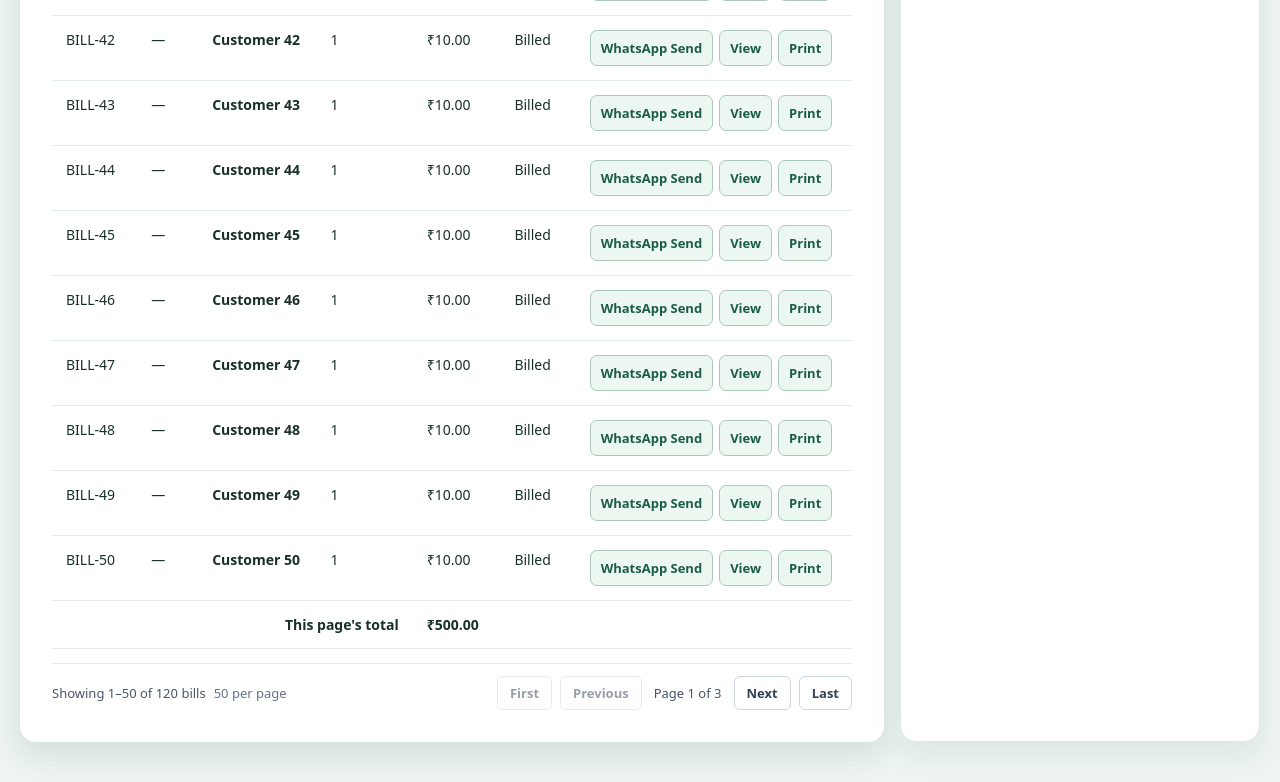
Test: clears the previous pager total after a failed request
(page scrolled)
Click the button "Next" at x=762, y=693, box [734, 676, 791, 710]
(page scrolled)
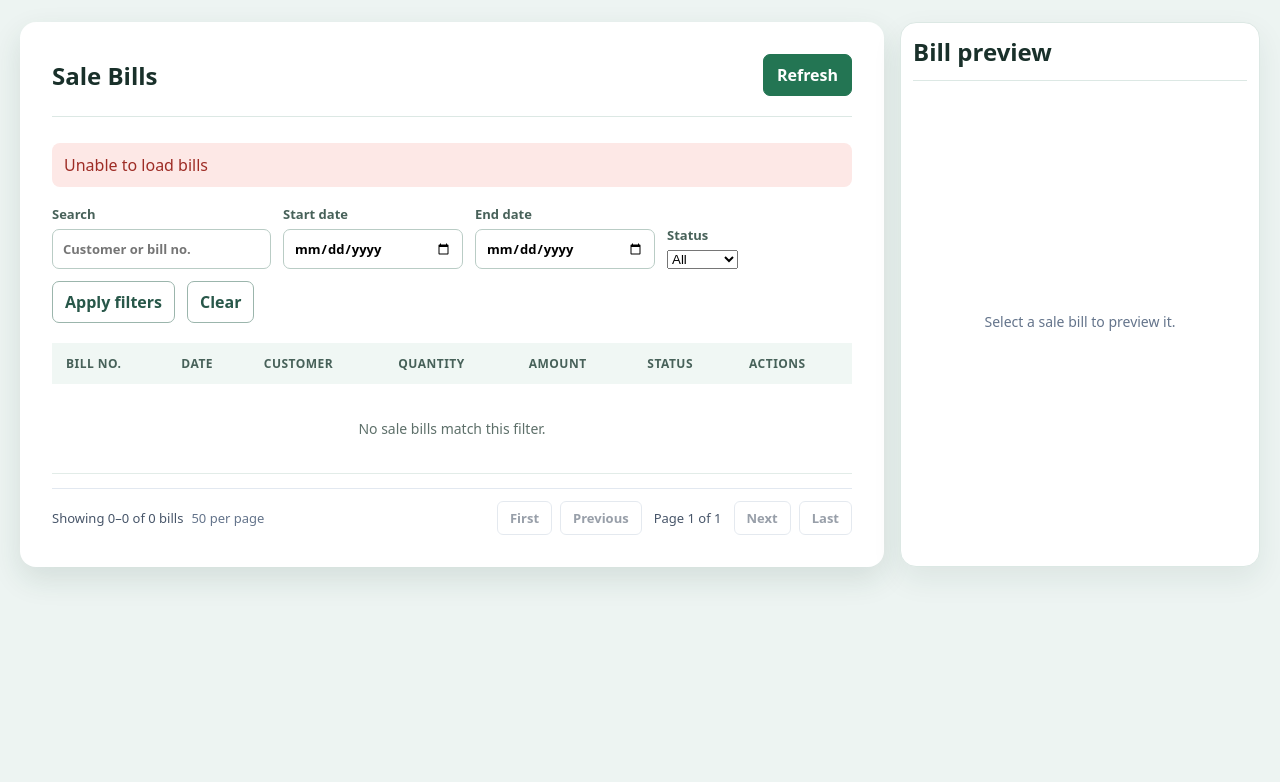
Result: the message "Unable to load bills" is shown at [52, 143, 852, 187]
Result: the message reads "Unable to load bills" at [64, 154, 208, 176]
Result: the text "Showing 0–0 of 0 bills" is shown at [52, 509, 183, 527]
